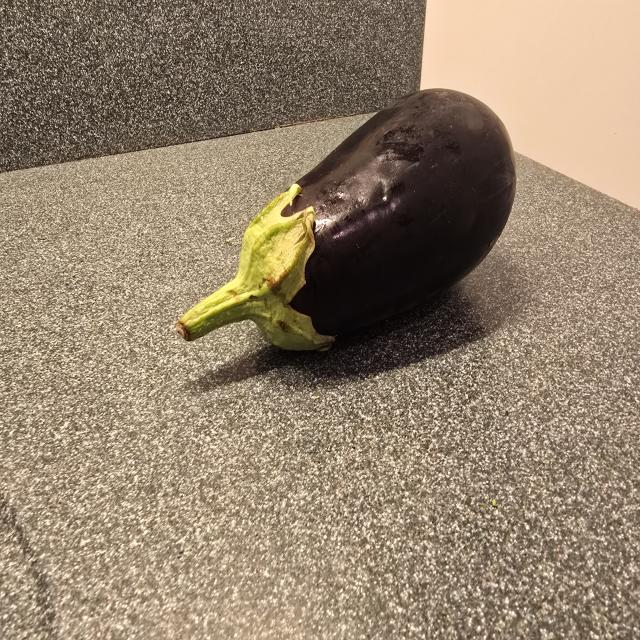Eggplant: (164, 73, 531, 366)
